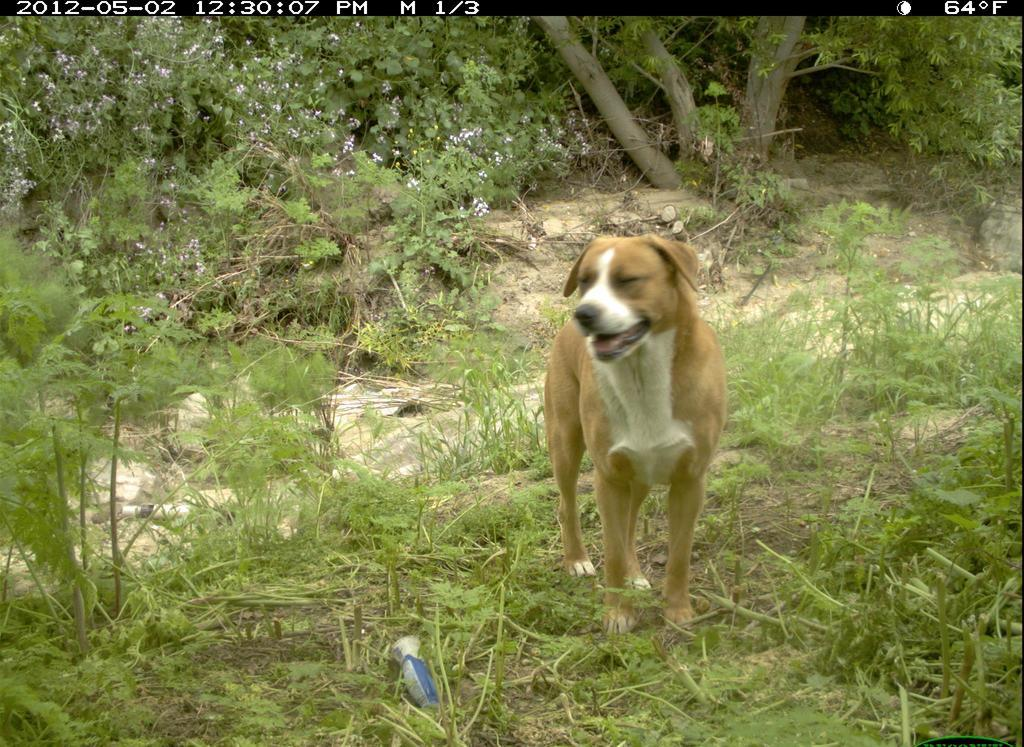dog: (533, 225, 729, 639)
